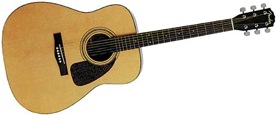guitar: (2, 1, 275, 115)
